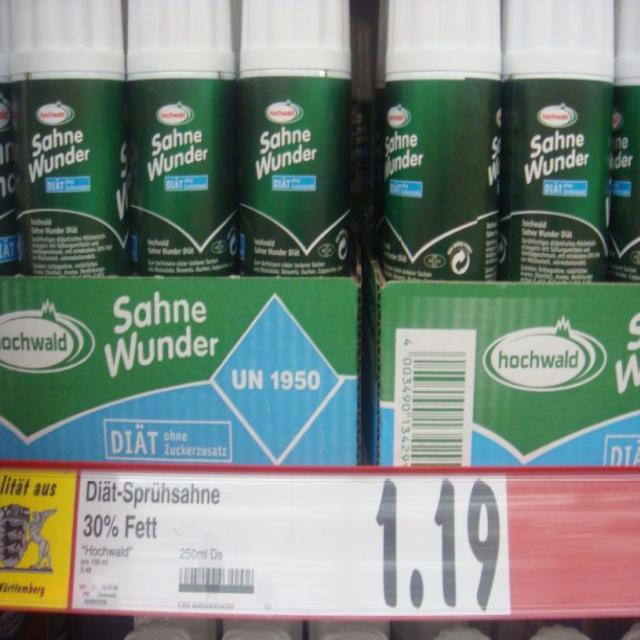Cream: (381, 0, 502, 280), (500, 0, 616, 282), (11, 2, 129, 276), (126, 0, 237, 275), (240, 0, 351, 275), (611, 0, 640, 281)
